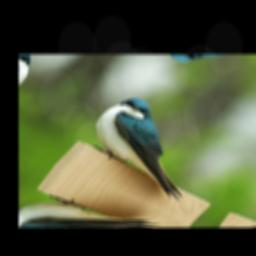Swallow: (66, 90, 236, 203)
